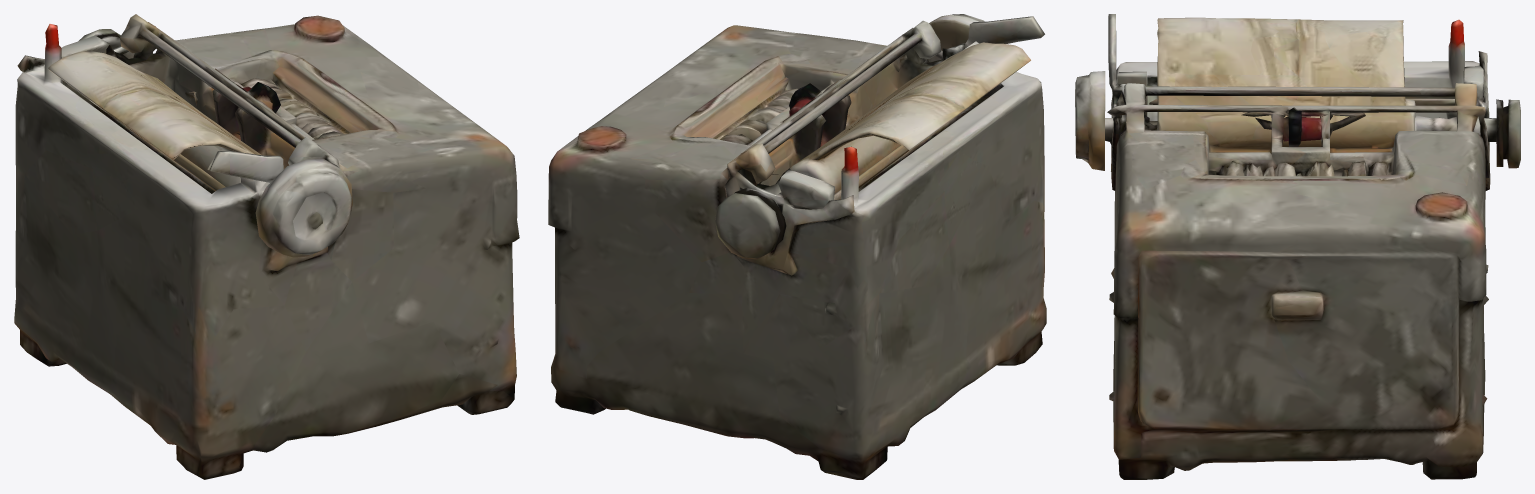
The model's file is server.glb.
3 views of the same model, side by side, from view 1: azimuth 30°, elevation 25°; view 2: azimuth 150°, elevation 25°; view 3: azimuth 270°, elevation 25° (orthographic).
Parts seen in each view (by area): view 1: tripo_node_d3467c6e-172f-4afa-a24e-7f24f6a5df67; view 2: tripo_node_d3467c6e-172f-4afa-a24e-7f24f6a5df67; view 3: tripo_node_d3467c6e-172f-4afa-a24e-7f24f6a5df67.
Part boxes in pixels (left/top/right/bottom): tripo_node_d3467c6e-172f-4afa-a24e-7f24f6a5df67: left=14, top=14, right=519, bottom=479; tripo_node_d3467c6e-172f-4afa-a24e-7f24f6a5df67: left=548, top=14, right=1046, bottom=479; tripo_node_d3467c6e-172f-4afa-a24e-7f24f6a5df67: left=1075, top=14, right=1520, bottom=479.
Bounding box in the file's own units: 0.8495 × 0.8196 × 0.9998.
Materials: 1 (1 with a texture image).
